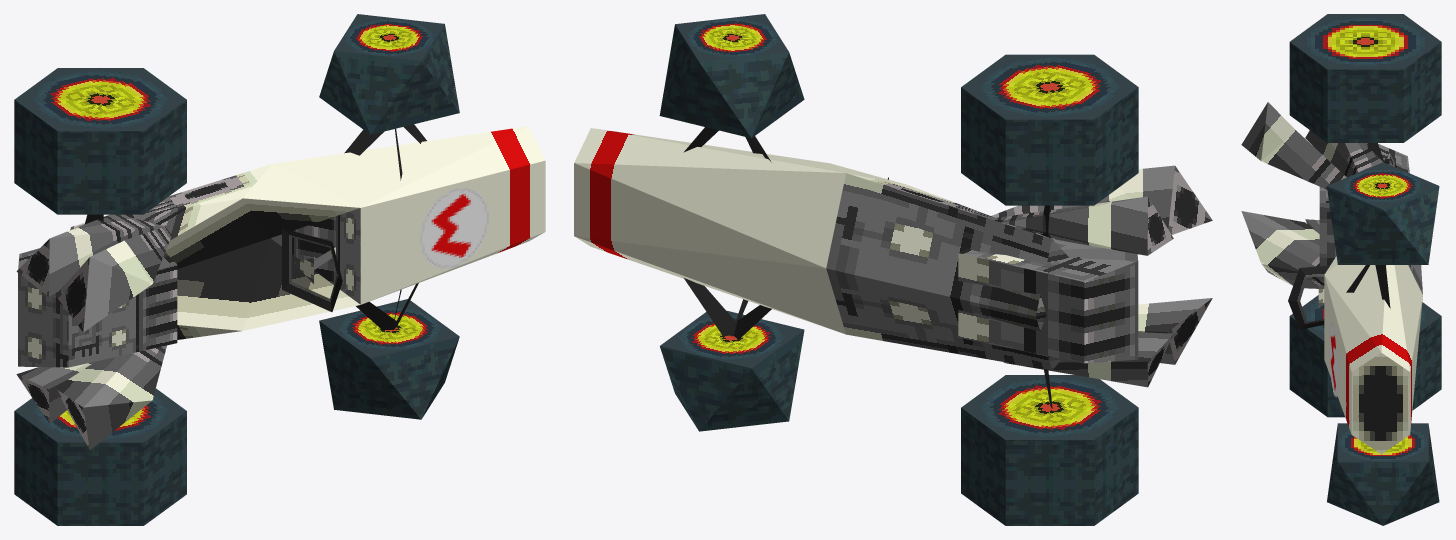
Rendered from kart.glb.
3 views of the same model, side by side, from view 1: azimuth 30°, elevation 25°; view 2: azimuth 150°, elevation 25°; view 3: azimuth 270°, elevation 25° (orthographic). The views are drawn at different scales.
Parts seen in each view (by area): view 1: polygon1, polygon0, polygon2; view 2: polygon1, polygon0; view 3: polygon0, polygon1, polygon2.
Part boxes in pixels (x1,y1,x2,y2): polygon1: [16, 124, 545, 450]; polygon0: [14, 14, 459, 525]; polygon2: [420, 187, 488, 269]; polygon1: [574, 127, 1212, 408]; polygon0: [659, 14, 1138, 525]; polygon0: [1289, 14, 1441, 525]; polygon1: [1241, 102, 1422, 453]; polygon2: [1329, 322, 1338, 397].
Size of the model in its own units: 1.65 by 1.18 by 0.6179.
Materials: 3 (3 with a texture image).
